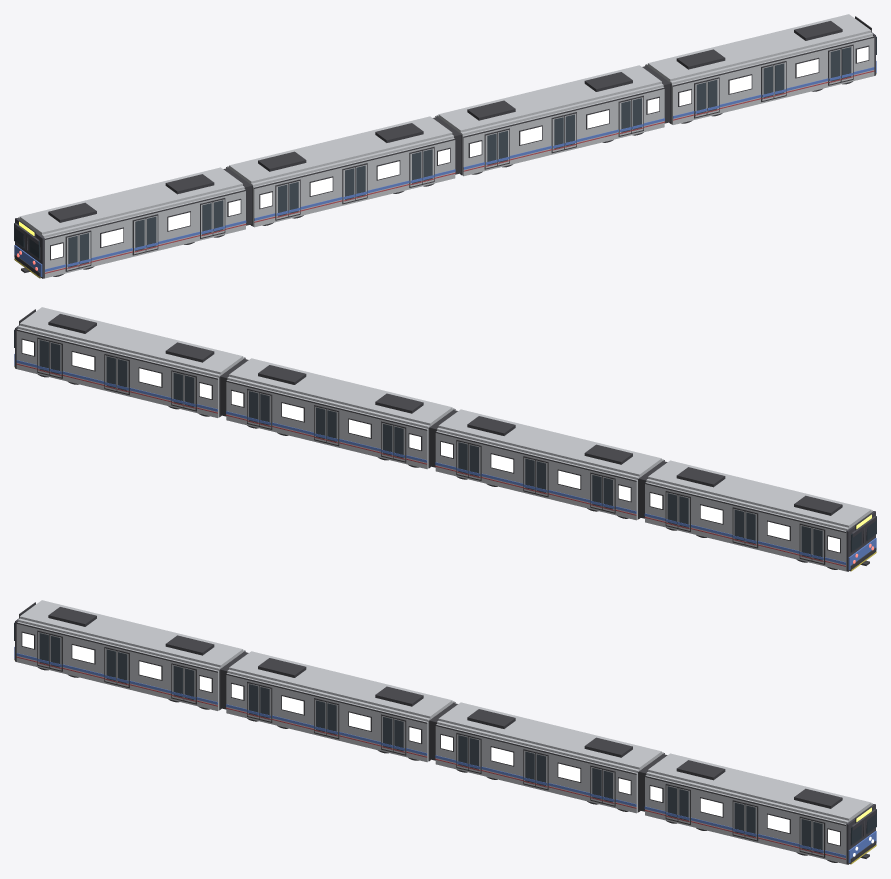
File: subway_train.glb
3 renders of one model, top to bottom at view 1: azimuth 30°, elevation 25°; view 2: azimuth 150°, elevation 25°; view 3: azimuth 330°, elevation 25°, orthographic.
Parts seen in each view (by area): view 1: Shell_2, Shell_4, Shell_3, Shell_1, RoofB_2, RoofB_3, RoofB_4, RoofB_1, RoofA_3, RoofA_4, RoofA_1, RoofA_2 (+8 smaller); view 2: Shell_2, Shell_4, Shell_3, Shell_1, RoofB_2, RoofB_3, RoofB_4, RoofB_1, RoofA_3, RoofA_4, RoofA_1, RoofA_2 (+8 smaller); view 3: Shell_3, Shell_1, Shell_2, Shell_4, RoofB_3, RoofB_2, RoofB_1, RoofB_4, RoofA_2, RoofA_1, RoofA_3, RoofA_4 (+8 smaller).
Boxes of the visible parts, x1,y1,x2,y2 form: Shell_2: [226, 138, 455, 227]; Shell_4: [645, 36, 874, 124]; Shell_3: [435, 87, 664, 176]; Shell_1: [44, 189, 245, 278]; RoofB_2: [229, 116, 452, 183]; RoofB_3: [438, 65, 661, 132]; RoofB_4: [648, 14, 871, 81]; RoofB_1: [19, 167, 242, 234]; RoofA_3: [437, 83, 663, 135]; RoofA_4: [646, 32, 872, 84]; RoofA_1: [18, 186, 244, 237]; RoofA_2: [227, 134, 453, 186]; Shell_2: [435, 431, 664, 520]; Shell_4: [16, 329, 245, 417]; Shell_3: [226, 380, 455, 469]; Shell_1: [645, 482, 846, 571]; RoofB_2: [438, 409, 661, 476]; RoofB_3: [229, 358, 452, 425]; RoofB_4: [19, 307, 242, 374]; RoofB_1: [648, 460, 871, 527]; RoofA_3: [227, 376, 453, 428]; RoofA_4: [18, 325, 244, 377]; RoofA_1: [646, 479, 872, 530]; RoofA_2: [437, 427, 663, 479]; Shell_3: [435, 724, 664, 813]; Shell_1: [16, 622, 245, 710]; Shell_2: [226, 673, 455, 762]; Shell_4: [645, 775, 846, 864]; RoofB_3: [438, 702, 661, 769]; RoofB_2: [229, 651, 452, 718]; RoofB_1: [19, 600, 242, 667]; RoofB_4: [648, 753, 871, 820]; RoofA_2: [227, 669, 453, 721]; RoofA_1: [18, 618, 244, 670]; RoofA_3: [437, 720, 663, 772]; RoofA_4: [646, 772, 872, 823].
Size of the model in its own units: 50.45 by 3.09 by 3.05.
